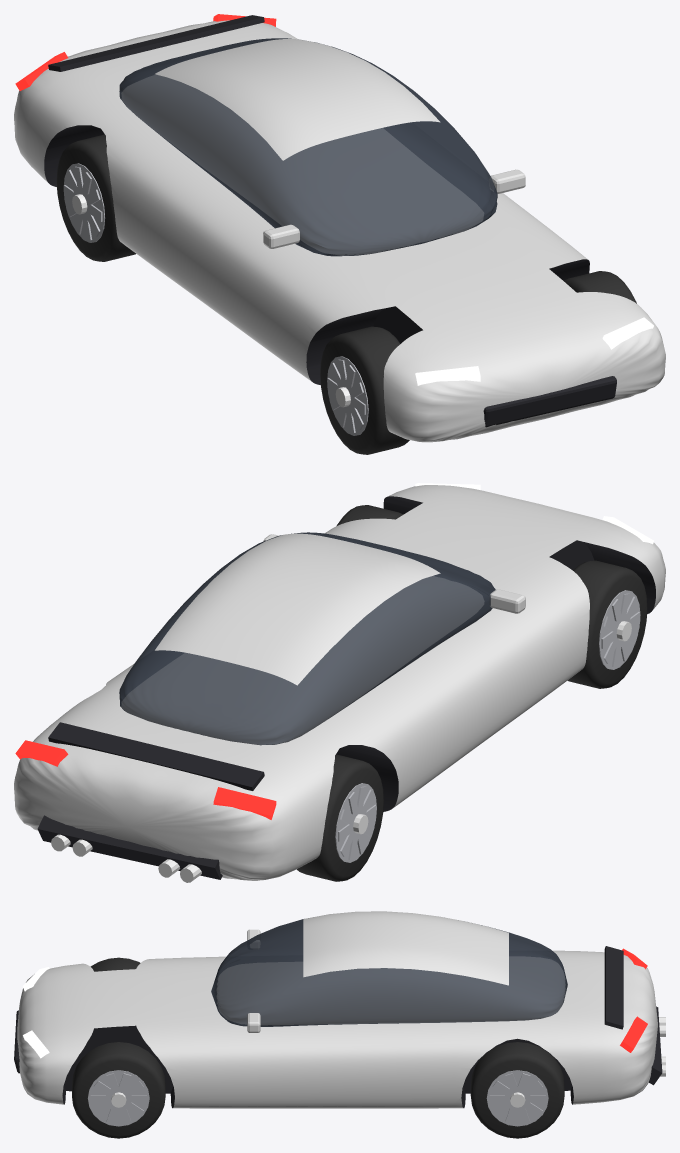
File: sterling.glb
3 renders of one model, top to bottom at view 1: azimuth 30°, elevation 25°; view 2: azimuth 150°, elevation 25°; view 3: azimuth 270°, elevation 25°, orthographic. The views are drawn at different scales.
Visible parts, largest first — view 1: Car, Wheel_FL, Wheel_RL, Wheel_FR, Rim.002, Rim; view 2: Car, Wheel_FL, Wheel_RL, Rim.002, Rim, Wheel_FR; view 3: Car, Wheel_RR, Wheel_FR, Rim.001, Rim.003, Wheel_FL.
Part boxes in pixels (bbox=[...]): Car: bbox=[14, 14, 665, 442]; Wheel_FL: bbox=[320, 326, 409, 454]; Wheel_RL: bbox=[56, 134, 135, 261]; Wheel_FR: bbox=[563, 271, 636, 303]; Rim.002: bbox=[63, 163, 105, 242]; Rim: bbox=[327, 356, 368, 435]; Car: bbox=[14, 483, 665, 882]; Wheel_FL: bbox=[567, 560, 647, 688]; Wheel_RL: bbox=[297, 754, 383, 881]; Rim.002: bbox=[335, 783, 376, 862]; Rim: bbox=[599, 590, 640, 669]; Wheel_FR: bbox=[336, 505, 403, 525]; Car: bbox=[14, 911, 665, 1108]; Wheel_RR: bbox=[470, 1042, 564, 1138]; Wheel_FR: bbox=[72, 1042, 165, 1138]; Rim.001: bbox=[87, 1070, 149, 1126]; Rim.003: bbox=[486, 1070, 548, 1126]; Wheel_FL: bbox=[90, 957, 140, 971].
Bounding box in the file's own units: 1.87 × 1.31 × 4.86.
